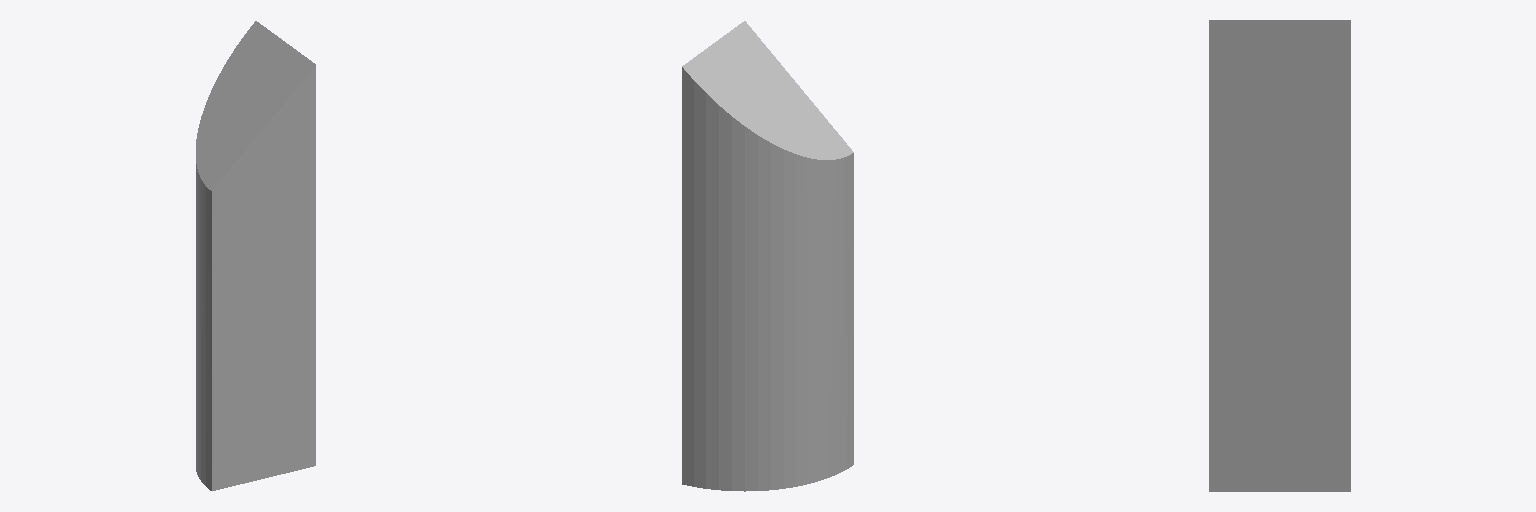
The robot description file, URDF, robot "root":
<robot name="root">
  <link name="link_half pencil_convex_piece_0">
    <inertial>
      <origin xyz="0 0 0" rpy="0 0 0"/>
      <mass value="2.70E-01"/>
      <inertia ixx="7.08E-04" ixy="-1.42E-05" ixz="-2.25E-05" iyy="7.06E-04" iyz="-6.55E-06" izz="9.93E-05"/>
    </inertial>
    <visual>
      <origin xyz="0 0 0" rpy="0 0 0"/>
      <geometry>
        <mesh filename="half pencil_convex_piece_0.obj" scale="1.0000E+00 1.0000E+00 1.0000E+00"/>
      </geometry>
      <material name="">
        <color rgba="7.50E-01 7.50E-01 7.50E-01 1"/>
      </material>
    </visual>
    <collision>
      <origin xyz="0 0 0" rpy="0 0 0"/>
      <geometry>
        <mesh filename="half pencil_convex_piece_0.obj" scale="1.0000E+00 1.0000E+00 1.0000E+00"/>
      </geometry>
    </collision>
  </link>
</robot>

--- What the picture shows (computed from the rendered views, not written in the file) ---
The picture shows the robot from 3 angles, left to right: view 1: azimuth 30°, elevation 25°; view 2: azimuth 150°, elevation 25°; view 3: azimuth 270°, elevation 25°; orthographic projection.
Model root with 1 links and 0 joints (none), rooted at link_half pencil_convex_piece_0, posed every joint at zero.
Visible links, largest first — view 1: link_half pencil_convex_piece_0; view 2: link_half pencil_convex_piece_0; view 3: link_half pencil_convex_piece_0.
Link boxes in pixels (x1,y1,x2,y2): link_half pencil_convex_piece_0: [196, 21, 315, 490]; link_half pencil_convex_piece_0: [682, 21, 853, 491]; link_half pencil_convex_piece_0: [1209, 20, 1350, 491].
Bounding box of the posed robot: 0.0515 × 0.0515 × 0.1885 m (x, y, z).
1 mesh visuals loaded from 1 distinct referenced files (1 OBJ).
